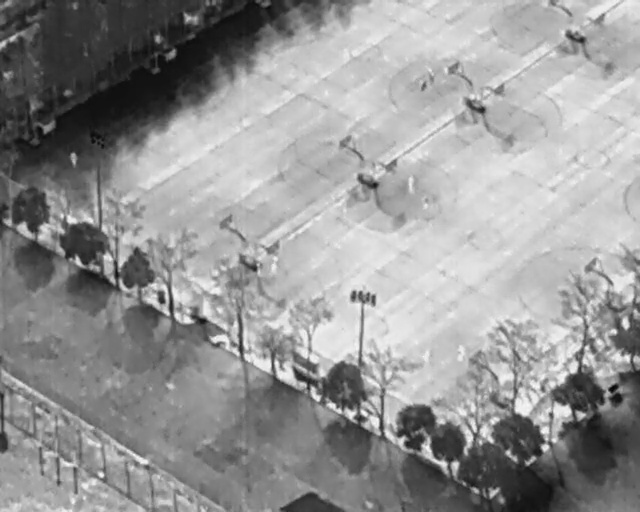Person: (421, 346, 432, 365), (426, 65, 435, 87), (68, 149, 78, 168), (407, 173, 415, 194), (270, 253, 278, 273), (455, 344, 463, 362)
